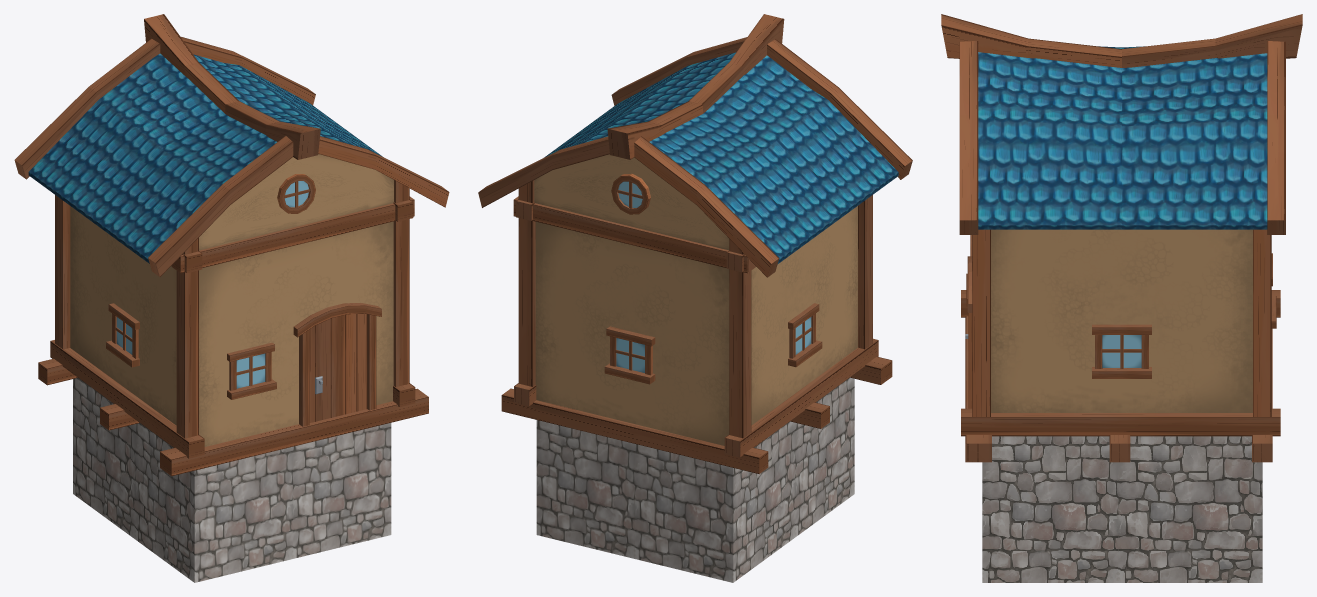
The model's file is house_town_blue_0.glb.
3 views of the same model, side by side, from view 1: azimuth 30°, elevation 25°; view 2: azimuth 150°, elevation 25°; view 3: azimuth 270°, elevation 25° (orthographic). The views are drawn at different scales.
Visible parts, largest first — view 1: house_town_blue_0_; view 2: house_town_blue_0_; view 3: house_town_blue_0_.
Part boxes in pixels (left/top/right/bottom): house_town_blue_0_: left=14, top=14, right=449, bottom=582; house_town_blue_0_: left=478, top=14, right=912, bottom=582; house_town_blue_0_: left=941, top=14, right=1302, bottom=582.
Bounding box in the file's own units: 8.35 × 11.99 × 7.73.
Materials: 1 (1 with a texture image).
